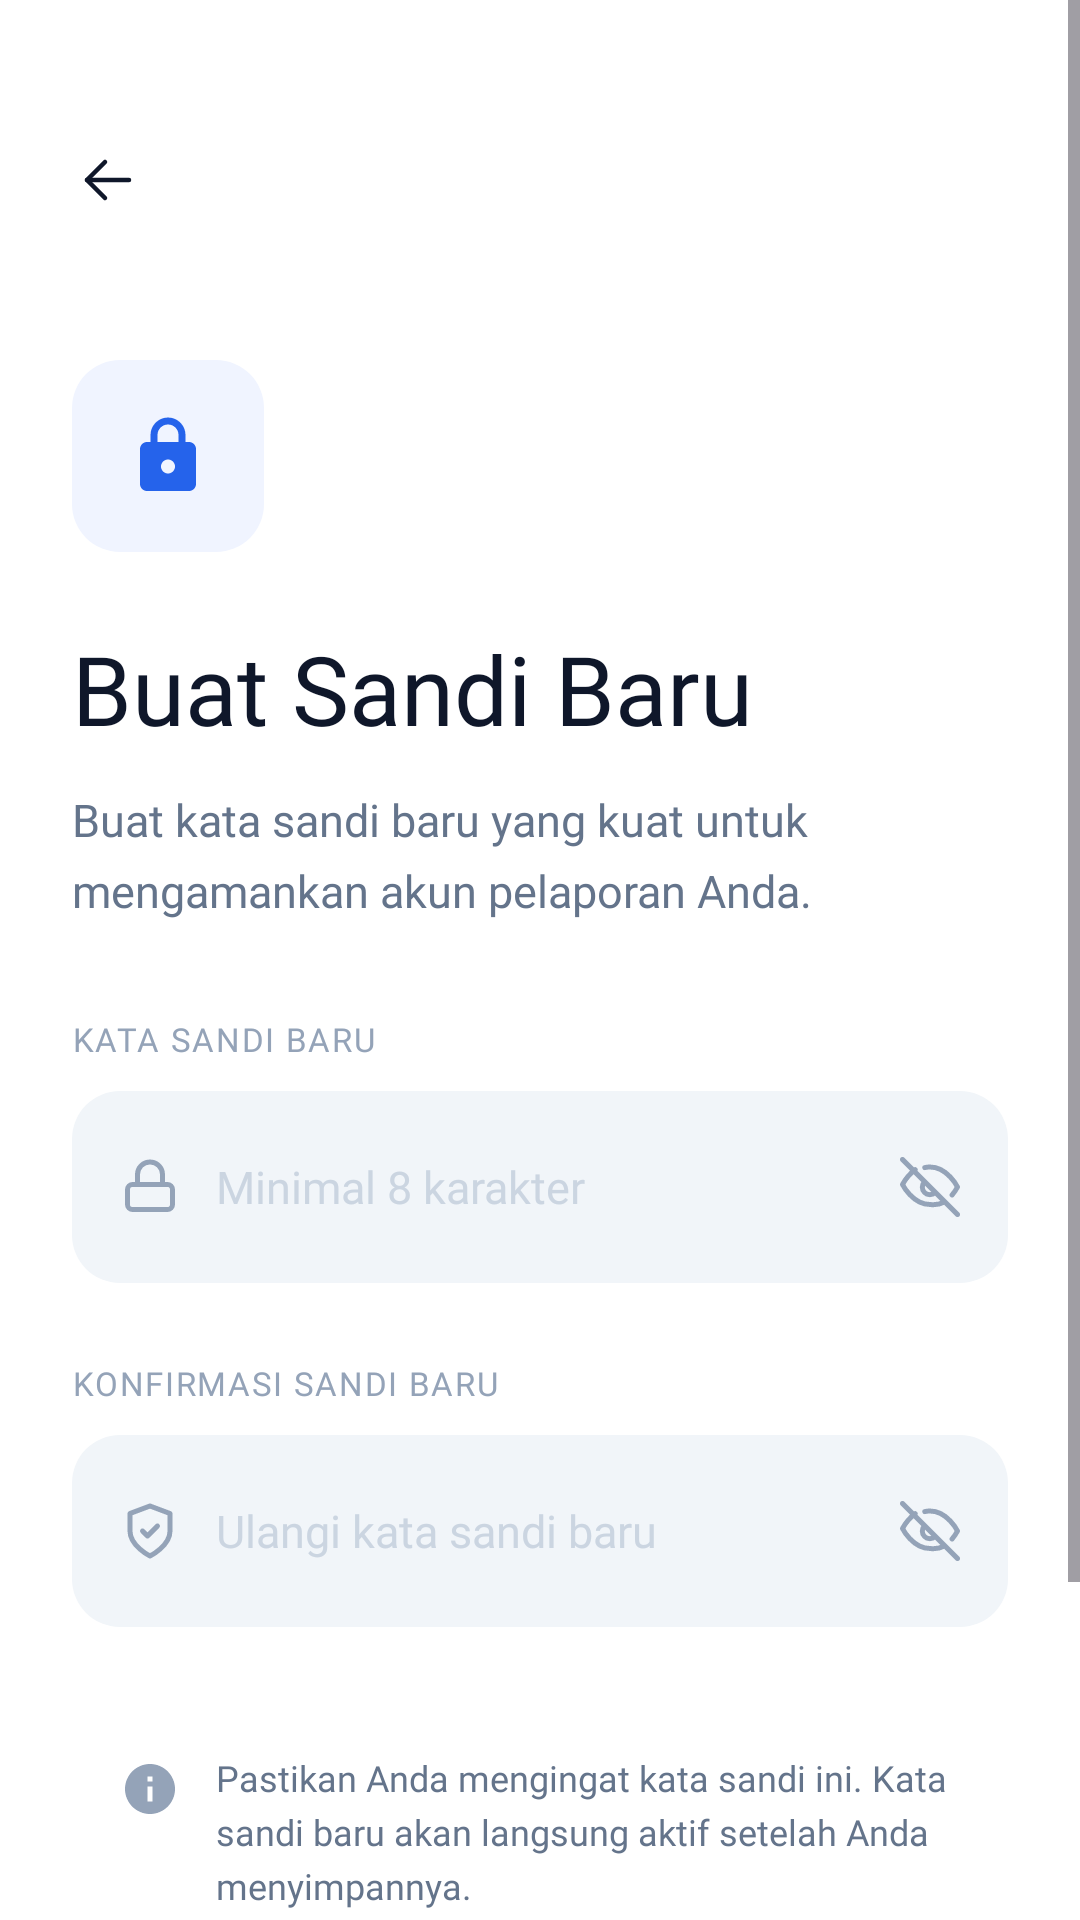

Named icons in this screenshot (1080x1920) and their bounding boxes, (x1, y1, x2, y2):
arrow back modern: (84, 159, 131, 201)
info modern: (125, 1764, 175, 1814)
lock: (125, 1159, 175, 1212)
lock padat: (140, 417, 196, 491)
shield check: (127, 1503, 173, 1559)
visibility off: (900, 1157, 960, 1217), (900, 1501, 960, 1561)
